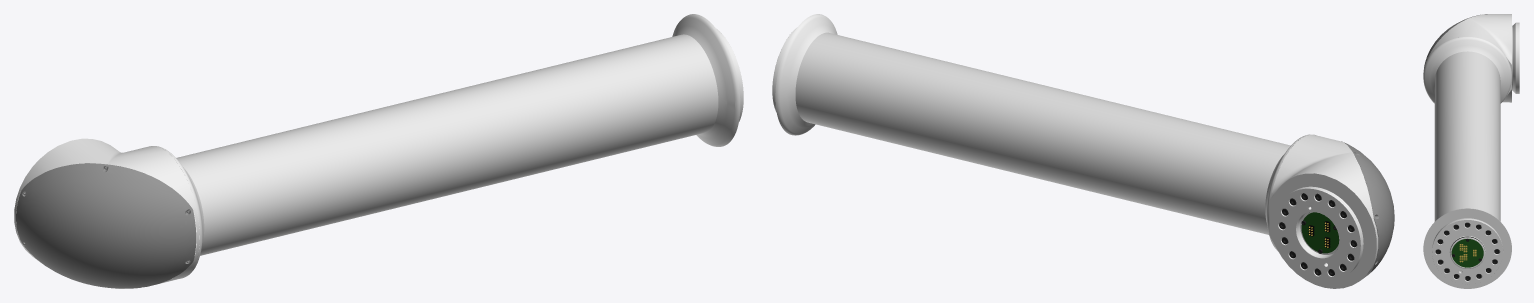
The picture shows the model from 3 angles, left to right: view 1: azimuth 30°, elevation 25°; view 2: azimuth 150°, elevation 25°; view 3: azimuth 270°, elevation 25°; orthographic projection. The views are drawn at different scales.
Visible parts, largest first — view 1: L116.001; view 2: L116.001; view 3: L116.001.
Boxes of the visible parts, box(x1,y1,x2,y2) form: L116.001: box(14, 14, 743, 288); L116.001: box(772, 14, 1394, 288); L116.001: box(1423, 14, 1519, 288).
Size of the model in its own units: 0.6627 by 0.116 by 0.126.
